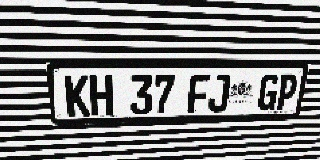3: (131, 75, 153, 115)
7: (153, 75, 175, 114)
F: (187, 74, 210, 113)
G: (256, 74, 281, 111)
H: (89, 75, 113, 116)
J: (207, 74, 231, 112)
K: (64, 75, 90, 117)
P: (275, 74, 299, 110)
